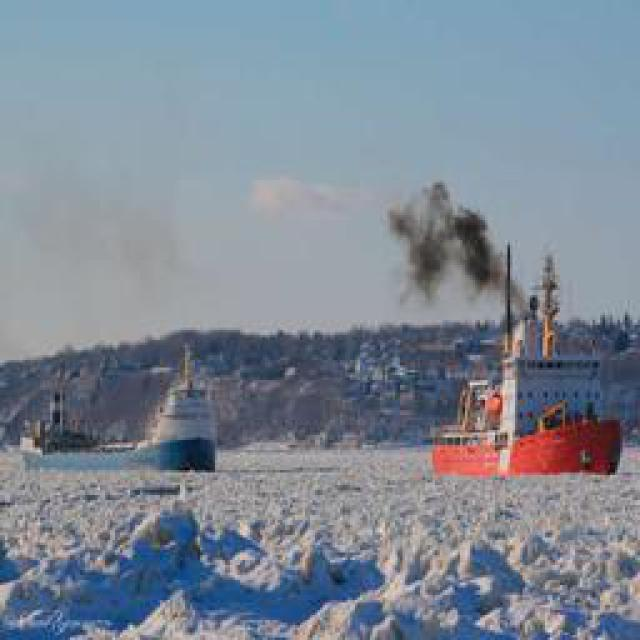Ship: (424, 217, 640, 484), (17, 351, 236, 481)
